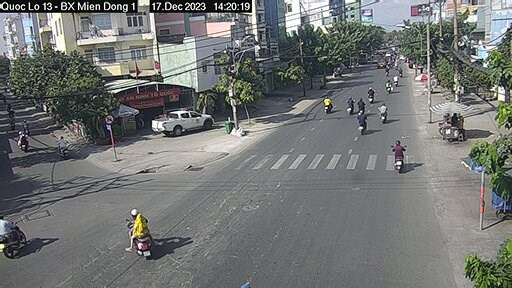car: (152, 110, 217, 138)
motorbike: (124, 210, 156, 257), (49, 135, 77, 161), (392, 139, 409, 174), (354, 108, 370, 133), (322, 94, 336, 116), (16, 131, 31, 151), (378, 102, 389, 127), (367, 87, 377, 103), (383, 82, 395, 95)
